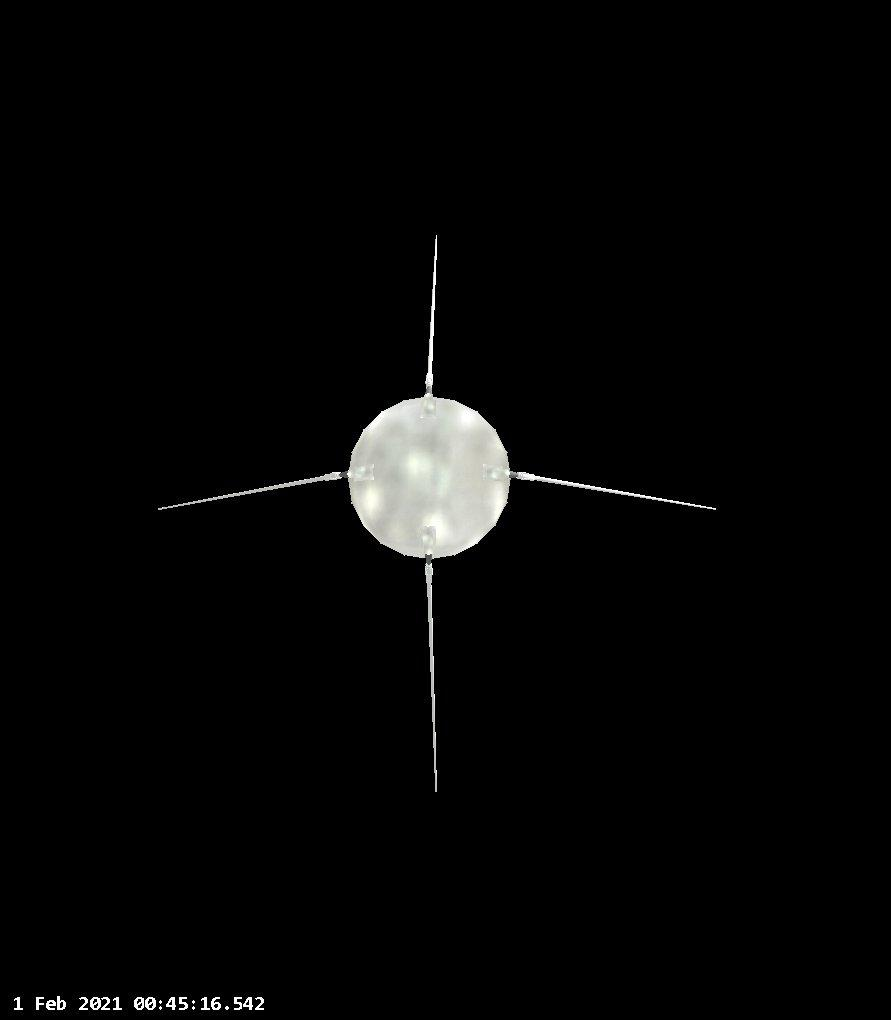antenna: (485, 455, 722, 511), (152, 460, 355, 516), (415, 517, 443, 793), (423, 223, 447, 417)
body: (347, 391, 514, 565)
